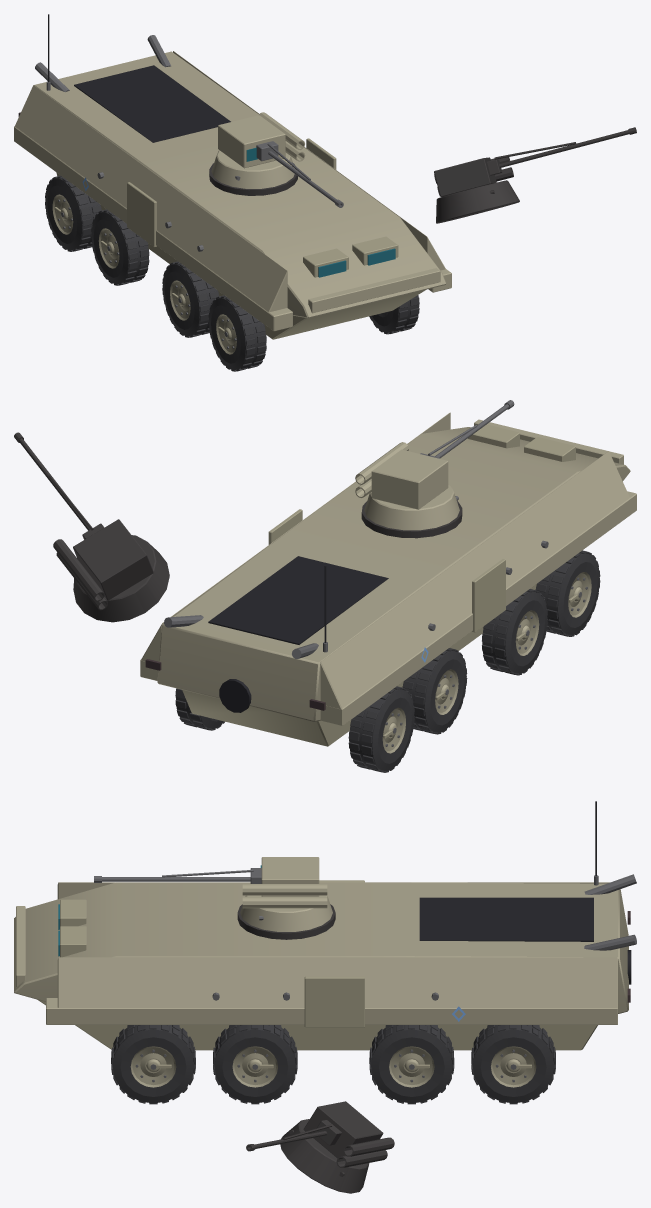
File: apc__btr_3un_proforce_ara.glb
The picture shows the model from 3 angles, top to bottom: view 1: azimuth 30°, elevation 25°; view 2: azimuth 150°, elevation 25°; view 3: azimuth 270°, elevation 25°; orthographic projection. The views are drawn at different scales.
Visible parts, largest first — view 1: Hull_Mesh, Wreck, Turret_Mesh, Wheel_L3_Mesh, Wheel_L1_Mesh, Wheel_L2_Mesh, Wheel_L0_Mesh, Wheel_R3_Mesh, Gun_Mesh; view 2: Hull_Mesh, Wreck, Turret_Mesh, Wheel_L0_Mesh, Wheel_L2_Mesh, Wheel_L1_Mesh, Wheel_L3_Mesh, Wheel_R0_Mesh, Gun_Mesh; view 3: Hull_Mesh, Wreck, Wheel_R3_Mesh, Wheel_R0_Mesh, Wheel_R1_Mesh, Wheel_R2_Mesh, Turret_Mesh, Gun_Mesh.
Part boxes in pixels (left/top/right/bottom): Hull_Mesh: left=14, top=14, right=451, bottom=339; Wreck: left=50, top=127, right=636, bottom=369; Turret_Mesh: left=211, top=112, right=305, bottom=188; Wheel_L3_Mesh: left=208, top=295, right=266, bottom=371; Wheel_L1_Mesh: left=91, top=209, right=149, bottom=285; Wheel_L2_Mesh: left=162, top=261, right=219, bottom=337; Wheel_L0_Mesh: left=45, top=175, right=101, bottom=251; Wheel_R3_Mesh: left=369, top=295, right=419, bottom=334; Gun_Mesh: left=256, top=141, right=343, bottom=207; Hull_Mesh: left=140, top=412, right=636, bottom=746; Wreck: left=14, top=432, right=579, bottom=770; Turret_Mesh: left=355, top=442, right=459, bottom=530; Wheel_L0_Mesh: left=348, top=686, right=414, bottom=772; Wheel_L2_Mesh: left=482, top=589, right=547, bottom=675; Wheel_L1_Mesh: left=402, top=648, right=467, bottom=734; Wheel_L3_Mesh: left=535, top=550, right=600, bottom=636; Wheel_R0_Mesh: left=175, top=688, right=224, bottom=730; Gun_Mesh: left=420, top=400, right=514, bottom=458; Hull_Mesh: left=14, top=801, right=636, bottom=1050; Wreck: left=131, top=904, right=546, bottom=1193; Wheel_R3_Mesh: left=111, top=1025, right=195, bottom=1104; Wheel_R0_Mesh: left=471, top=1025, right=555, bottom=1104; Wheel_R1_Mesh: left=369, top=1025, right=454, bottom=1104; Wheel_R2_Mesh: left=213, top=1025, right=297, bottom=1104; Turret_Mesh: left=240, top=857, right=332, bottom=931; Gun_Mesh: left=94, top=868, right=261, bottom=883.
Size of what is drawn, in the model's own units: 7.44 by 3.13 by 7.96.
